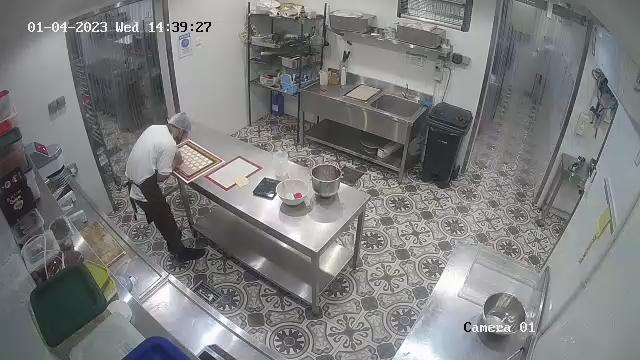apron: (126, 164, 163, 202)
